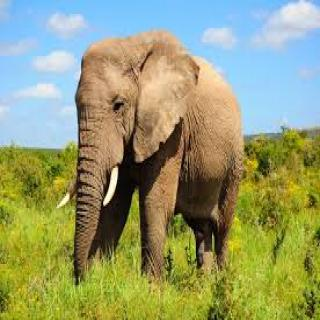Elephant: (60, 23, 248, 294)
